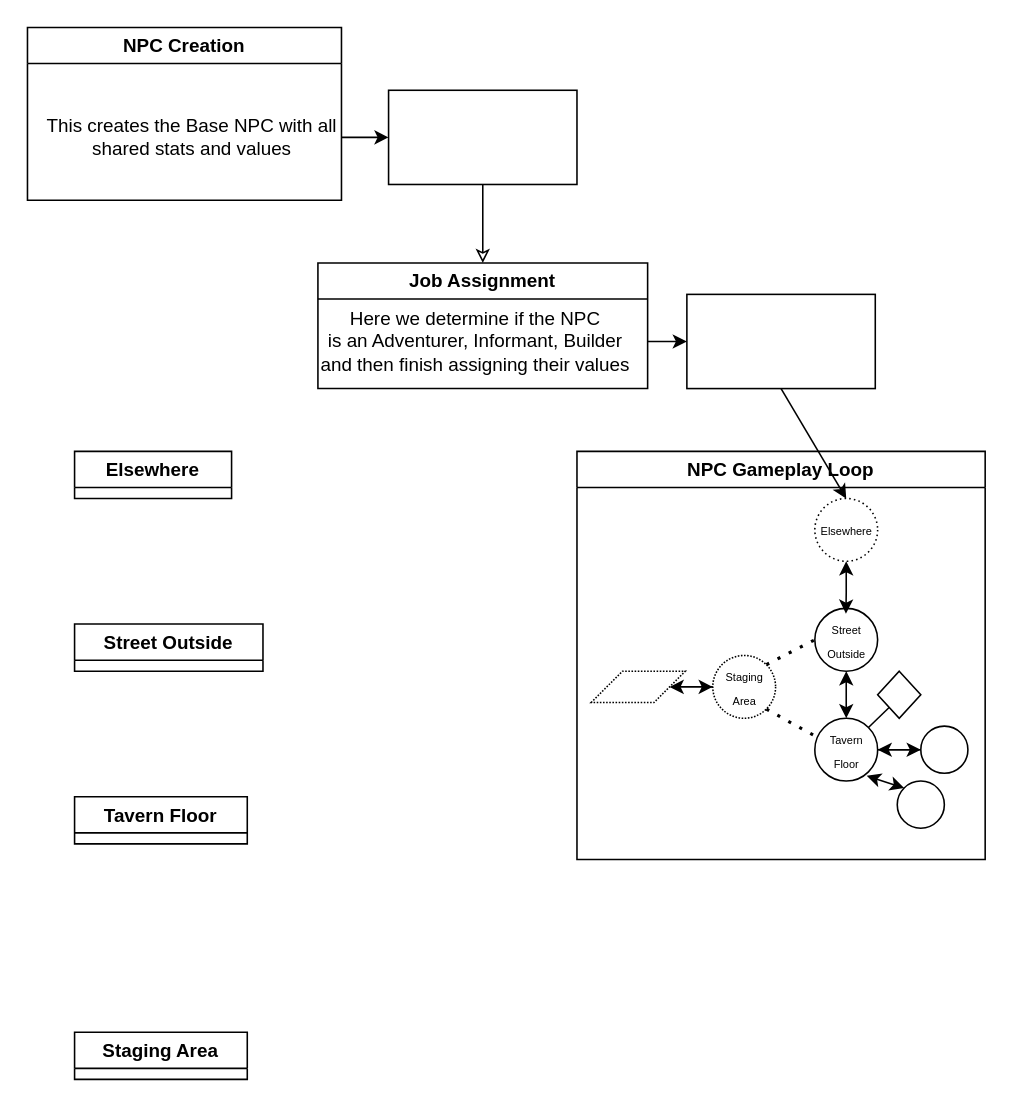
Some shapes in this 1013 by 1107 pixel diagram are drawn without their labels. The shapes that lost their labels are listed below. From the top down, each one's centre as x and y in pixels, then its label:
At point (482, 136): "BaseNPCList".
At point (780, 341): "AdventurerList InformantList BuilderList".
At point (637, 686): "Deployed".
At point (898, 694): "Quest Board".
At point (943, 749): "Seats".
At point (920, 804): "Lodging".
